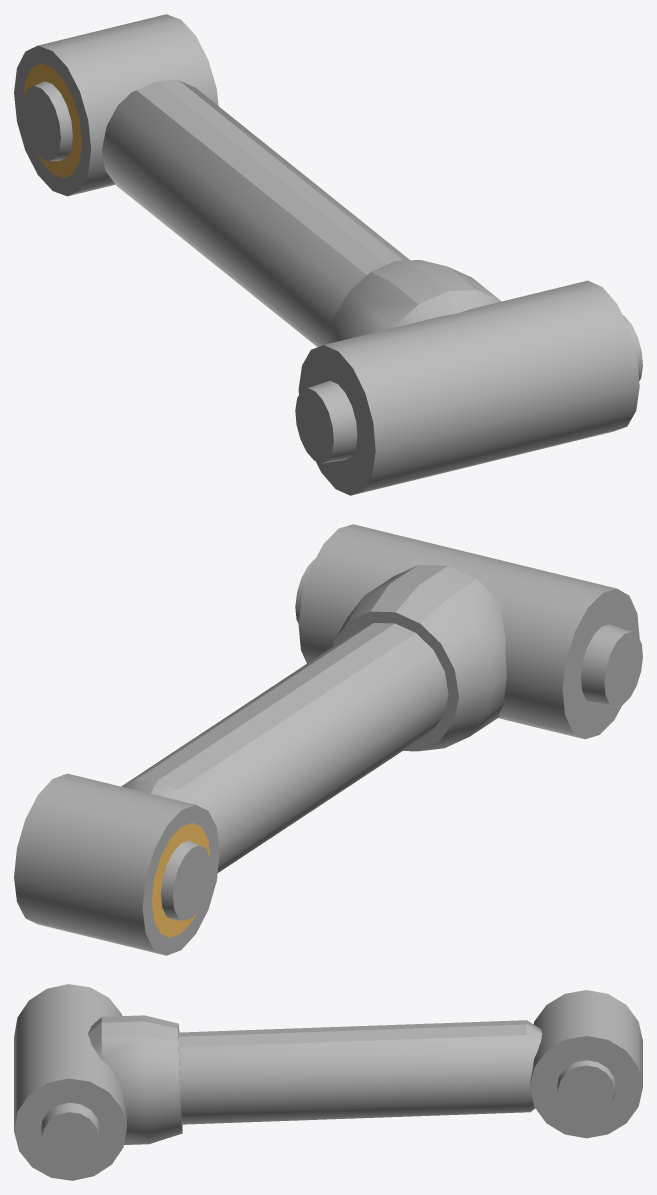
Rendered from Arm_024c.gltf.
3 views of the same model, one above another, from view 1: azimuth 30°, elevation 25°; view 2: azimuth 150°, elevation 25°; view 3: azimuth 270°, elevation 25° (orthographic). The views are drawn at different scales.
Visible parts, largest first — view 1: Cylinder.104; view 2: Cylinder.104; view 3: Cylinder.104.
Part boxes in pixels (x1=…): Cylinder.104: x1=14, y1=14, x2=642, y2=495; Cylinder.104: x1=14, y1=524, x2=642, y2=955; Cylinder.104: x1=14, y1=984, x2=642, y2=1180.
Bounding box in the file's own units: 0.6563 × 0.3512 × 1.58.
